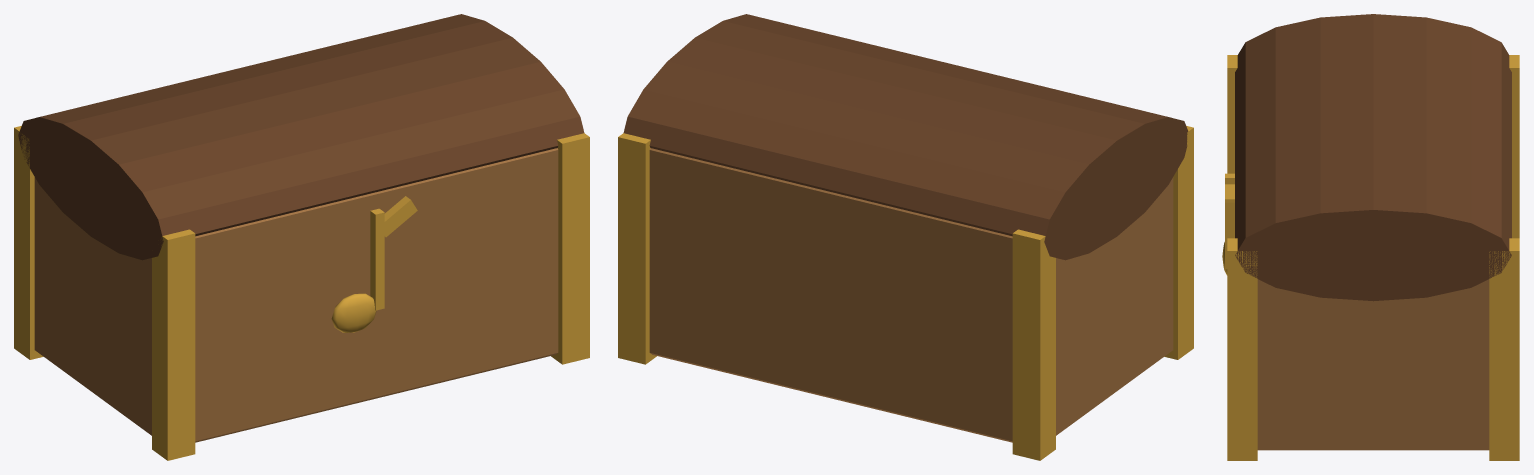
The model's file is MusicChest.glb.
3 views of the same model, side by side, from view 1: azimuth 30°, elevation 25°; view 2: azimuth 150°, elevation 25°; view 3: azimuth 270°, elevation 25° (orthographic). The views are drawn at different scales.
Parts seen in each view (by area): view 1: MusicChest; view 2: MusicChest; view 3: MusicChest.
Part boxes in pixels (x1,y1,x2,y2): MusicChest: (14, 14, 589, 460); MusicChest: (618, 14, 1193, 460); MusicChest: (1222, 14, 1519, 460).
Bounding box in the file's own units: 0.92 × 0.55 × 0.59.
